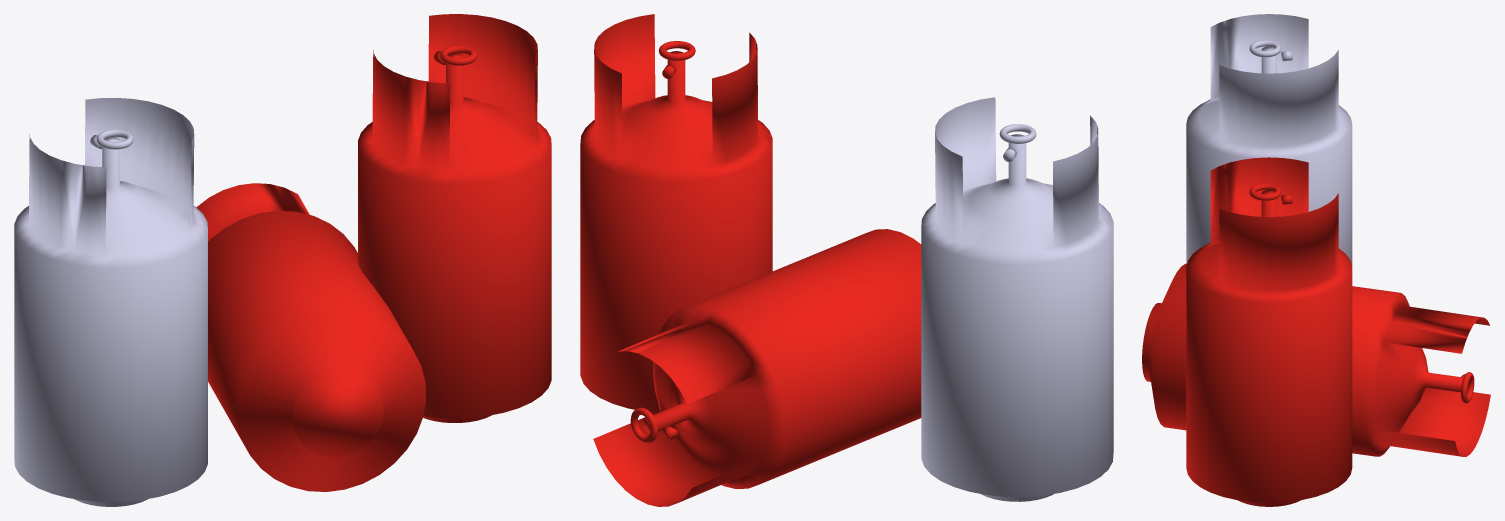
File: GasTank.glb
3 renders of one model, left to right at view 1: azimuth 30°, elevation 25°; view 2: azimuth 150°, elevation 25°; view 3: azimuth 270°, elevation 25°, orthographic. The views are drawn at different scales.
Parts seen in each view (by area): view 1: Cylinder, Cylinder.001, Cylinder.002; view 2: Cylinder, Cylinder.002, Cylinder.001; view 3: Cylinder.001, Cylinder, Cylinder.002.
Part boxes in pixels (x1=…): Cylinder: x1=14, y1=98, x2=207, y2=506; Cylinder.001: x1=358, y1=14, x2=551, y2=422; Cylinder.002: x1=196, y1=183, x2=426, y2=491; Cylinder: x1=921, y1=97, x2=1113, y2=501; Cylinder.002: x1=593, y1=229, x2=921, y2=506; Cylinder.001: x1=580, y1=14, x2=772, y2=413; Cylinder.001: x1=1186, y1=157, x2=1352, y2=506; Cylinder: x1=1186, y1=14, x2=1352, y2=266; Cylinder.002: x1=1142, y1=263, x2=1490, y2=456.
Size of the model in its own units: 6.09 by 4.12 by 4.2.
